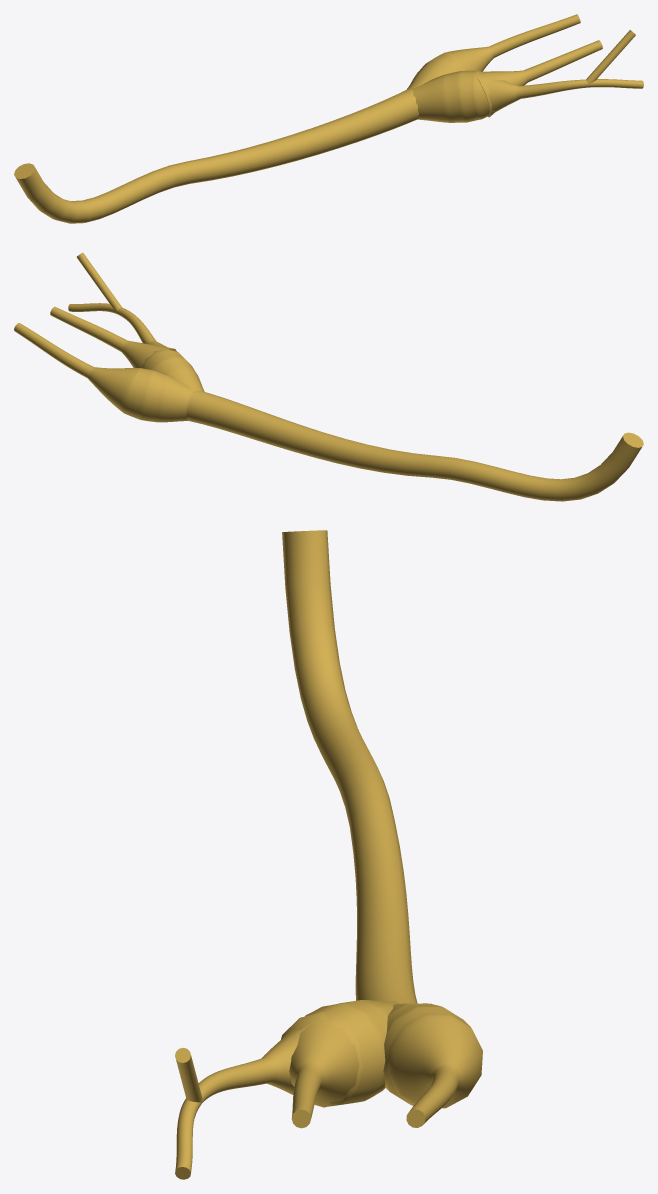
The picture shows the model from 3 angles, top to bottom: view 1: azimuth 30°, elevation 25°; view 2: azimuth 150°, elevation 25°; view 3: azimuth 270°, elevation 25°; orthographic projection. The views are drawn at different scales.
Visible parts, largest first — view 1: 左侧前庭神经; view 2: 左侧前庭神经; view 3: 左侧前庭神经.
Part boxes in pixels (x1,y1,x2,y2): 左侧前庭神经: (14, 14, 643, 223); 左侧前庭神经: (14, 252, 643, 501); 左侧前庭神经: (175, 530, 482, 1179).
Bounding box in the file's own units: 0.0313 × 0.00484 × 0.00699.
